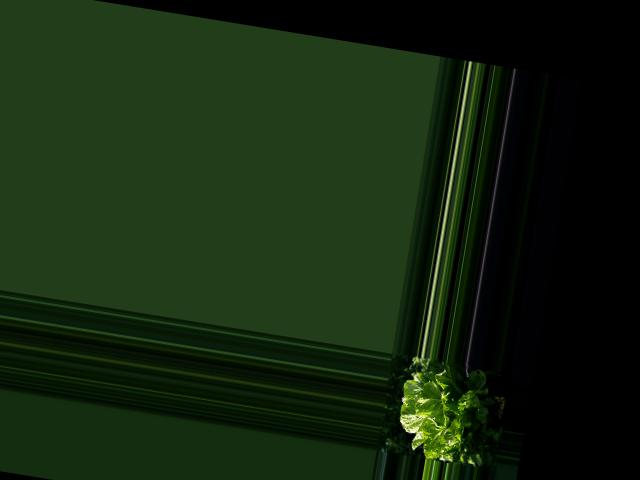lettuce: (395, 358, 492, 457)
